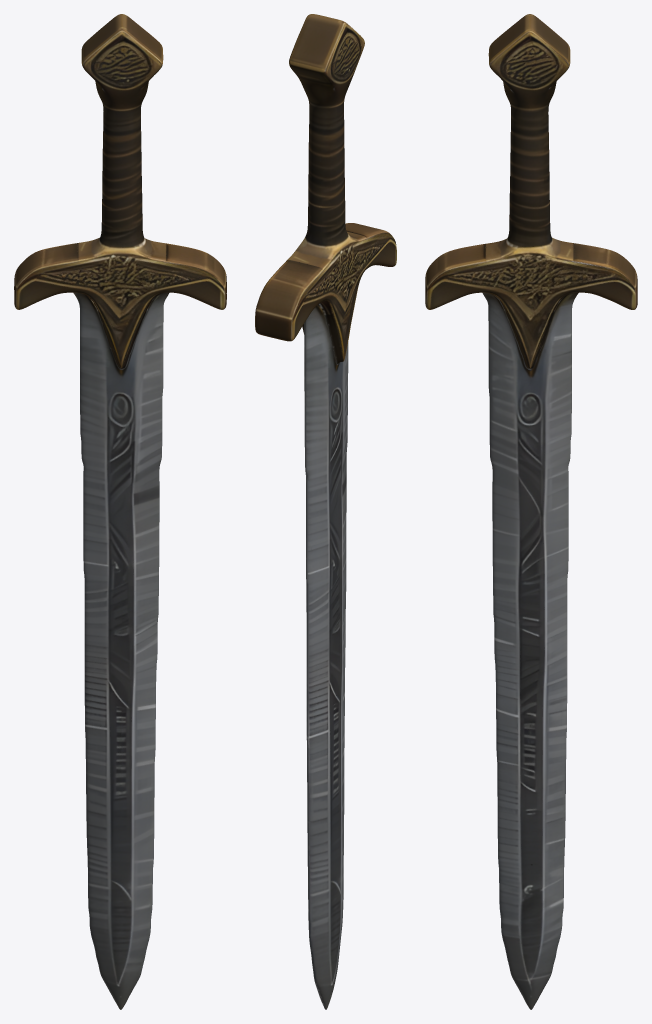
File: Sword 05.fbx
3 views of the same model, side by side, from view 1: azimuth 90°, elevation 25°; view 2: azimuth 150°, elevation 25°; view 3: azimuth 270°, elevation 25° (orthographic).
Visible parts, largest first — view 1: Sword 05; view 2: Sword 05; view 3: Sword 05.
Part boxes in pixels (<box>): Sword 05: <box>14,14,226,1009</box>; Sword 05: <box>255,14,396,1009</box>; Sword 05: <box>425,14,637,1009</box>.
Bounding box in the file's own units: 7.92 × 188 × 36.72.
1 material, 1 textured.
